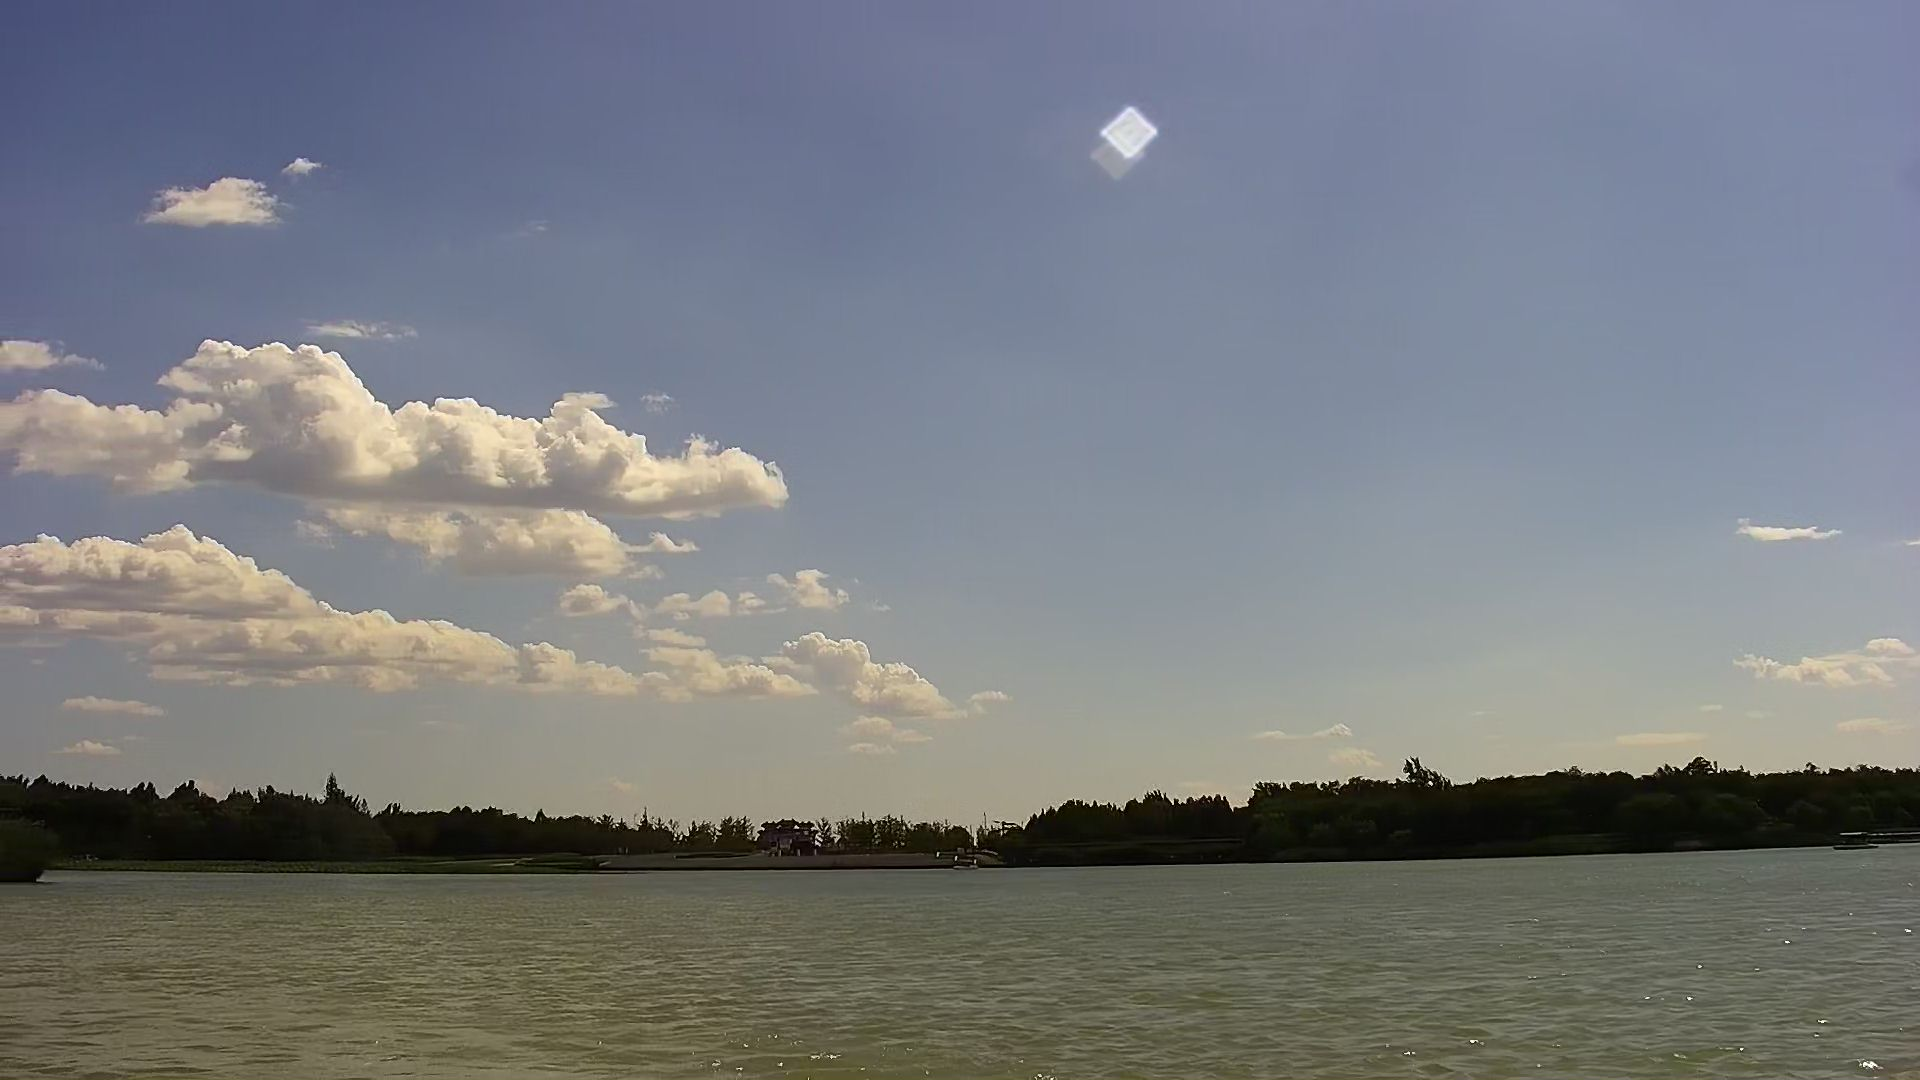boat: (1833, 824, 1867, 851)
